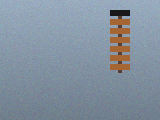defect: (110, 9, 130, 17)
insulator: (108, 8, 132, 74)
